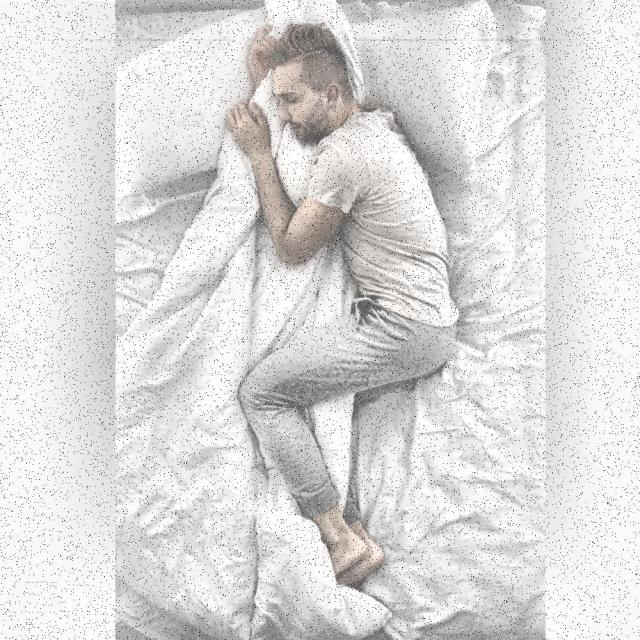Not_Supine: (228, 25, 458, 577)
